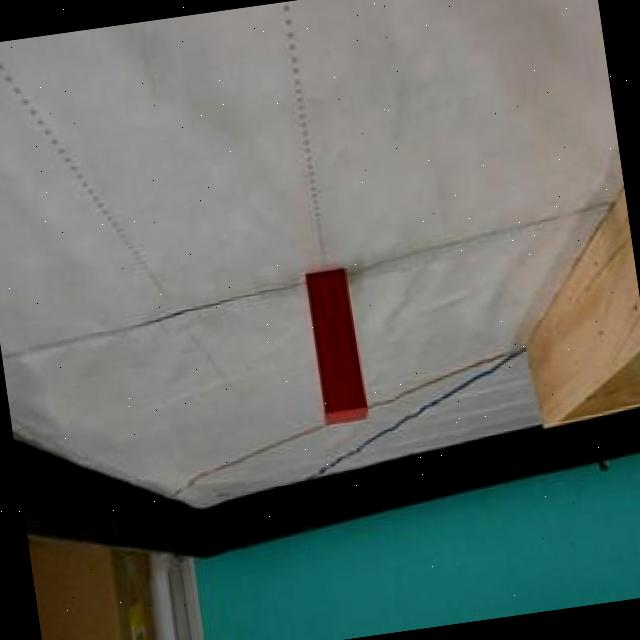redbox: (304, 266, 369, 428)
